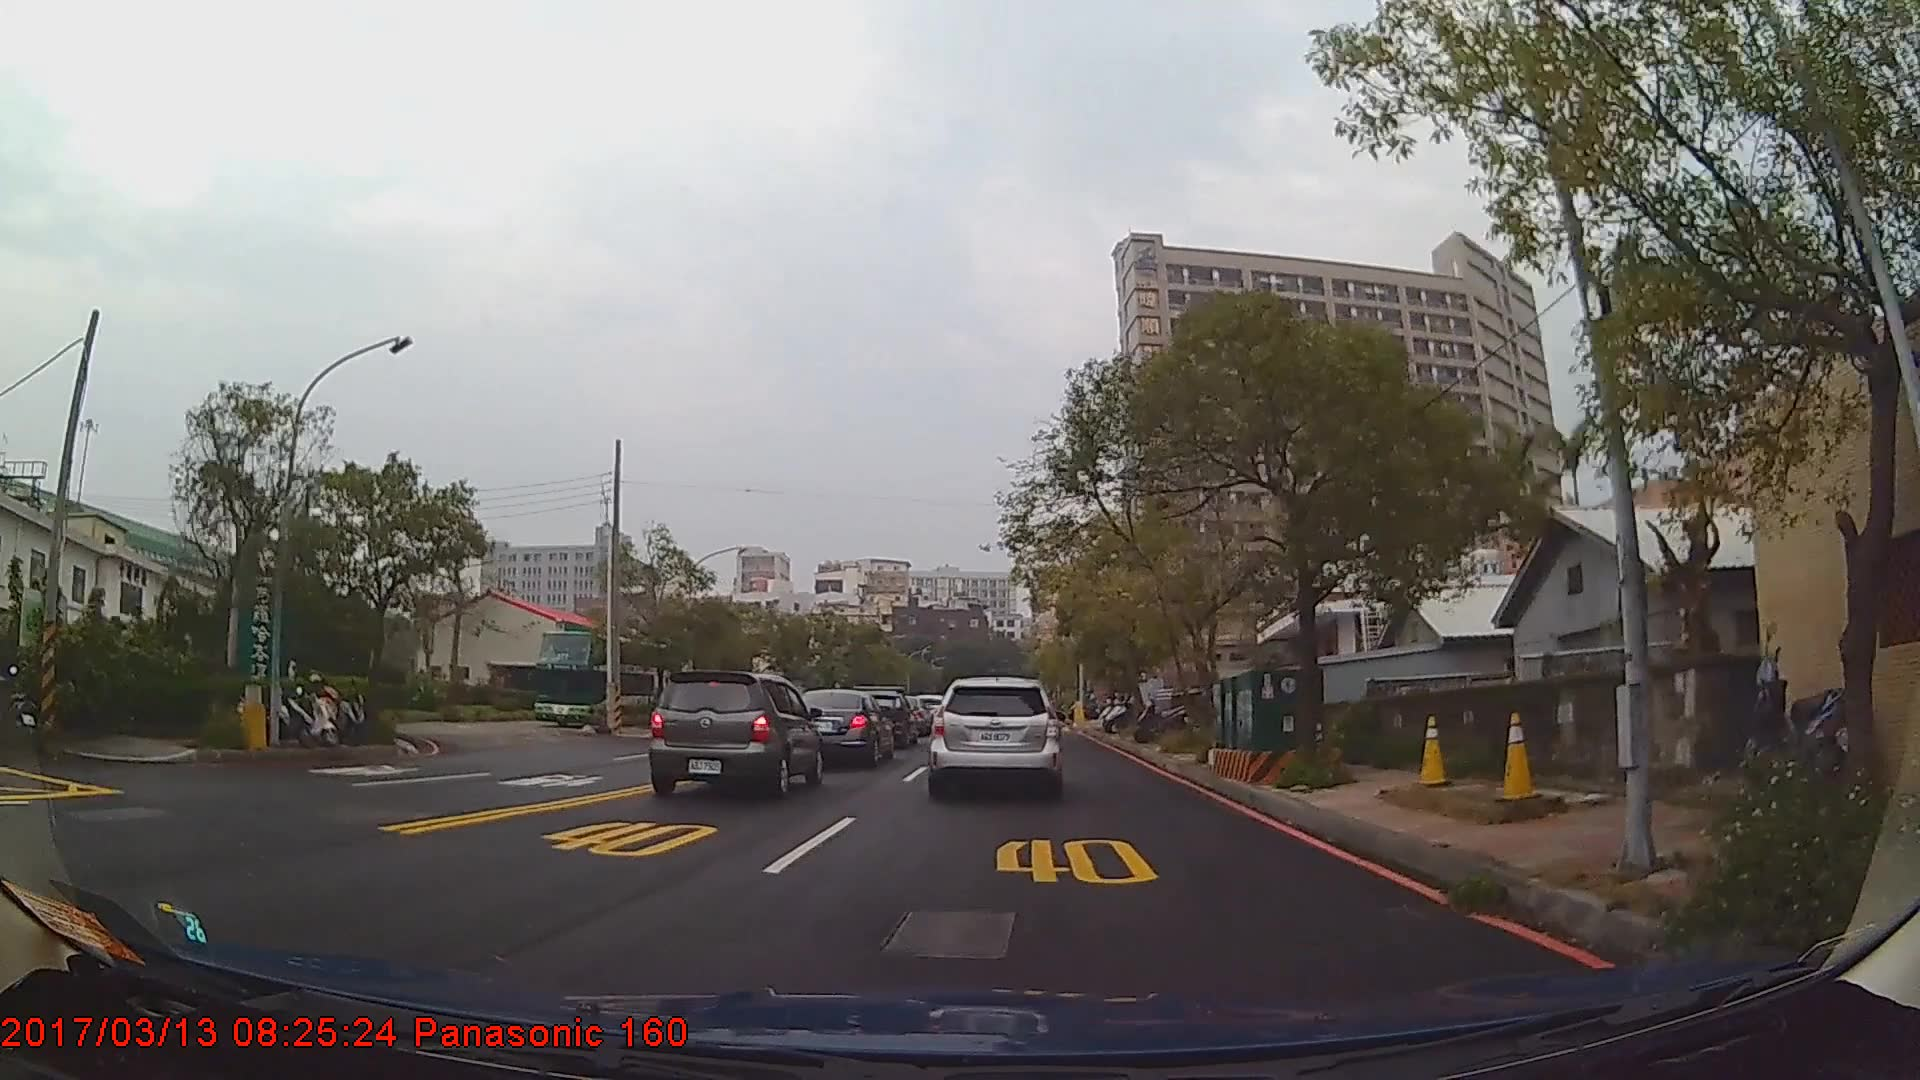vehicle: (644, 669, 818, 799), (530, 630, 687, 735), (927, 673, 1062, 793), (785, 687, 891, 769)
